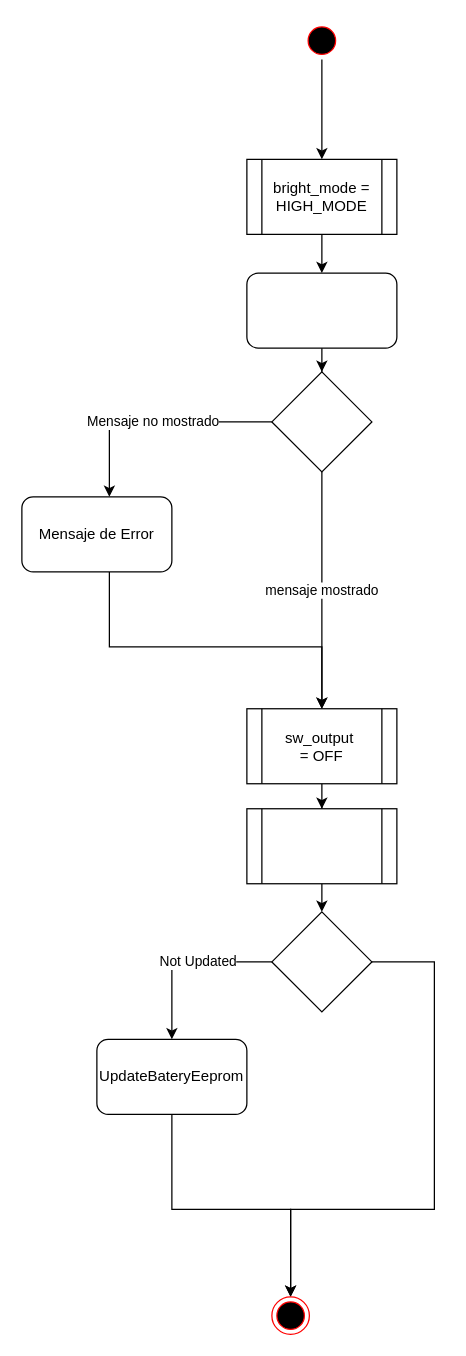
The diagram is 466 pixels wide and 1356 high, and some of its shapes have lost their labels. Here are the shapes that lost their labels. From the top down, the centre of each, then its label:
At [321,310]: "PowerBar(Off)".
At [321,846]: "Reset Protecciones".
